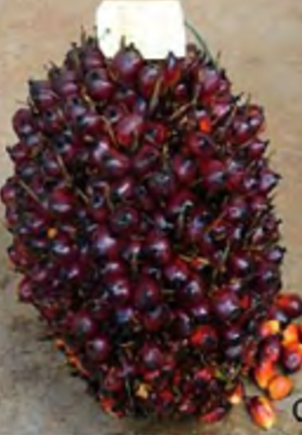PalmFruit: (10, 33, 289, 423)
